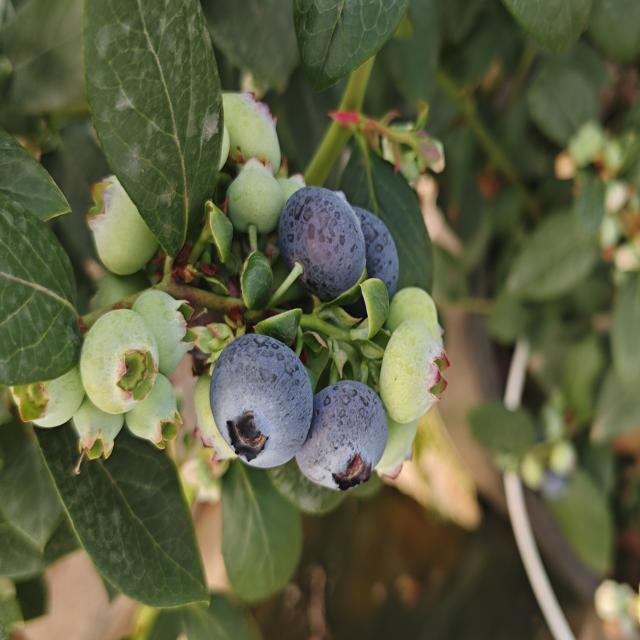ripe: (206, 331, 315, 472), (294, 377, 390, 495), (276, 184, 368, 304), (339, 191, 402, 321)
